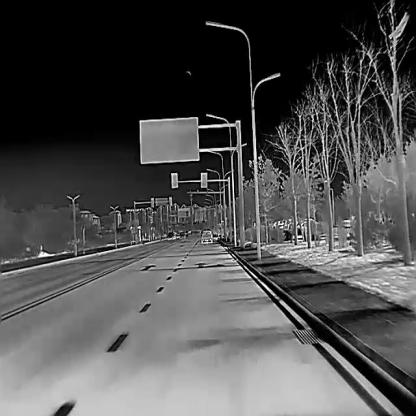car: (200, 228, 213, 242), (166, 230, 176, 239), (179, 229, 185, 238)
